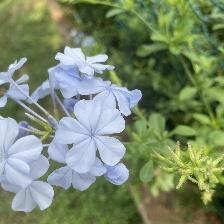chitrak: (56, 97, 127, 175), (1, 159, 57, 216), (1, 117, 43, 185), (53, 45, 115, 79)
